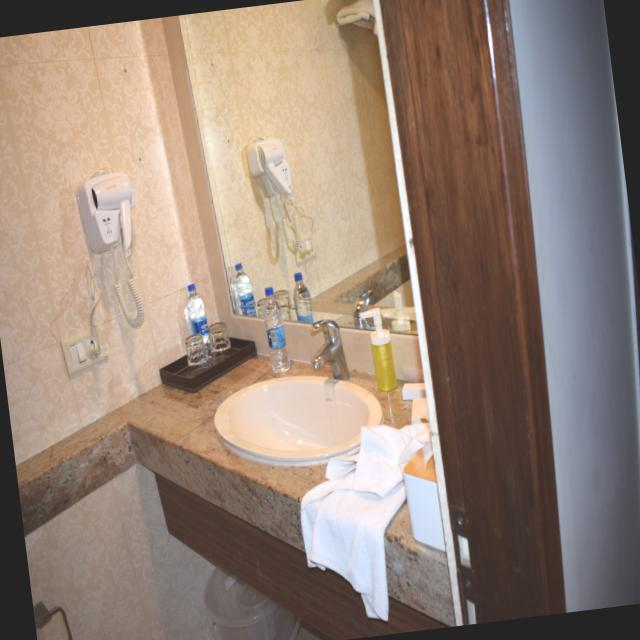mess: (124, 232, 477, 640)
